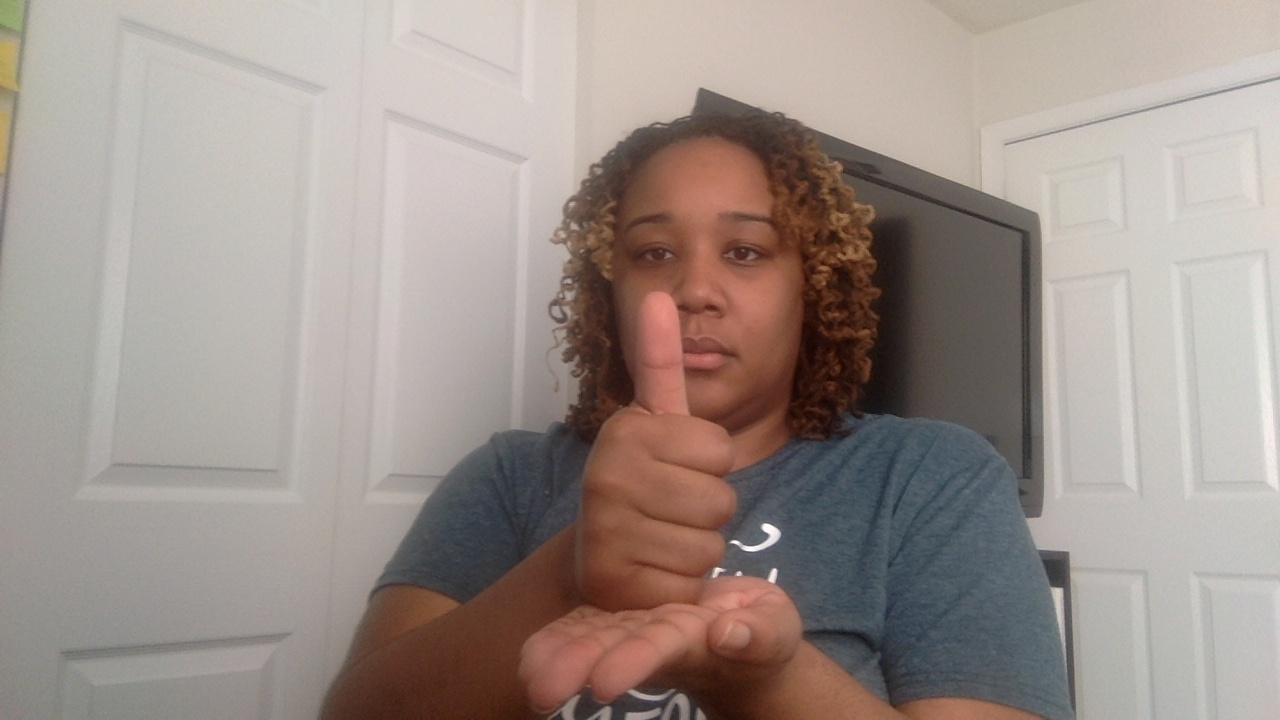help: (500, 290, 799, 720)
